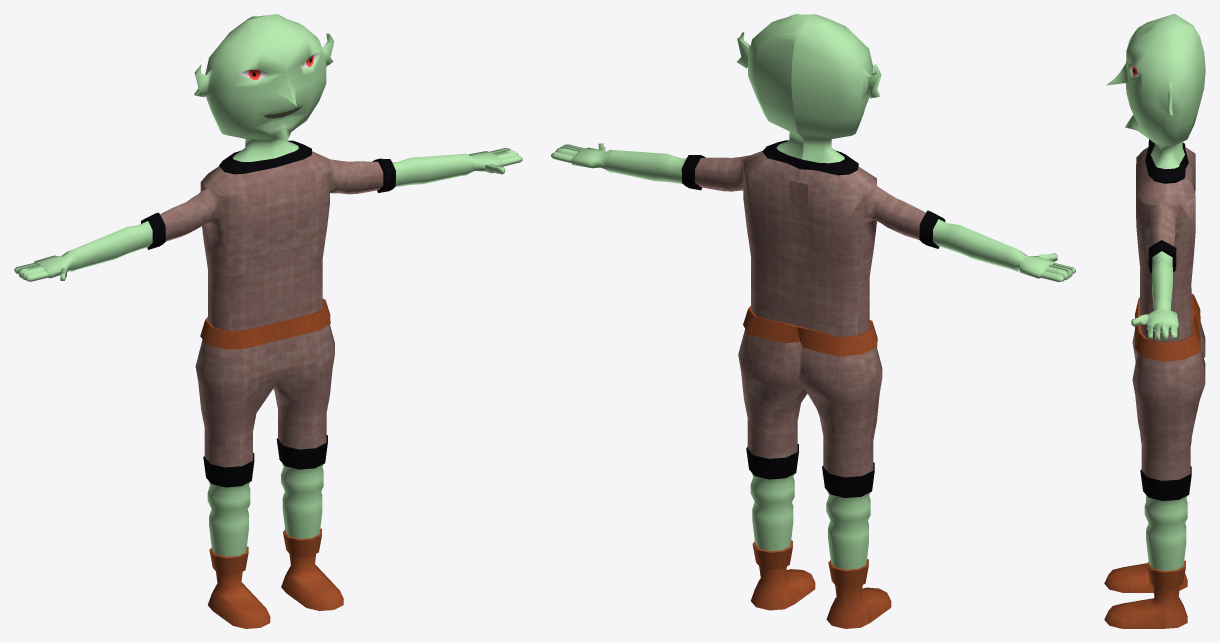
File: goblin001.glb
The picture shows the model from 3 angles, left to right: view 1: azimuth 30°, elevation 25°; view 2: azimuth 150°, elevation 25°; view 3: azimuth 270°, elevation 25°; orthographic projection. The views are drawn at different scales.
Visible parts, largest first — view 1: Goblin; view 2: Goblin; view 3: Goblin.
Boxes of the visible parts, <box> form: Goblin: <box>14,14,522,628</box>; Goblin: <box>551,14,1075,628</box>; Goblin: <box>1104,14,1205,628</box>.
Bounding box in the file's own units: 1.38 × 1.54 × 0.2436.
Materials: 6 (3 with a texture image).
